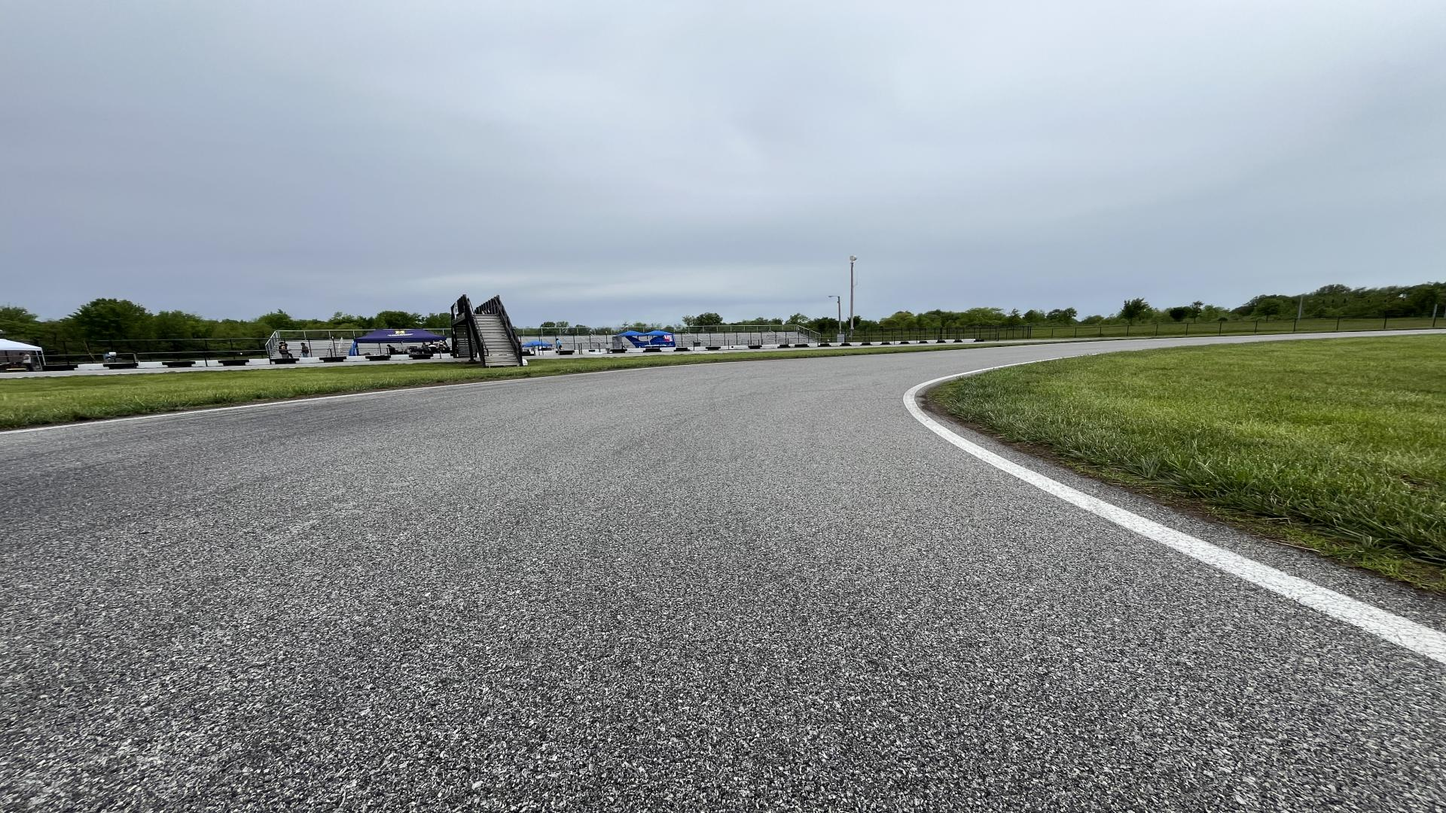white-line: (903, 355, 1445, 665), (0, 357, 834, 435)
